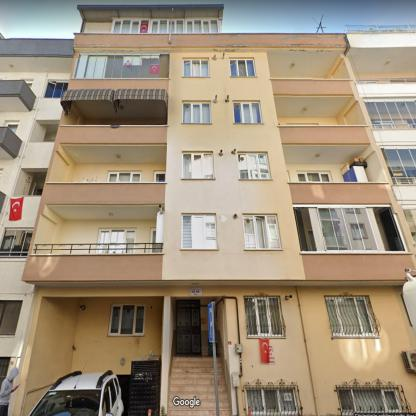door: (129, 360, 159, 416), (176, 300, 201, 354), (150, 228, 162, 253), (0, 357, 10, 386), (5, 122, 18, 133), (154, 172, 165, 182), (33, 184, 38, 194)
window: (294, 205, 408, 252), (74, 54, 169, 78), (326, 296, 374, 336), (111, 18, 219, 33), (338, 389, 402, 414), (245, 297, 284, 335), (243, 214, 281, 250), (365, 102, 415, 129), (248, 388, 297, 414), (182, 214, 217, 248), (382, 150, 416, 184), (109, 304, 145, 335), (96, 229, 136, 253), (1, 230, 33, 258), (239, 153, 270, 179), (182, 153, 213, 178), (0, 300, 22, 335), (182, 102, 211, 123), (233, 102, 262, 123), (230, 59, 256, 76), (183, 60, 209, 76), (404, 210, 416, 244), (44, 81, 68, 97), (297, 172, 330, 182), (108, 172, 141, 182)
